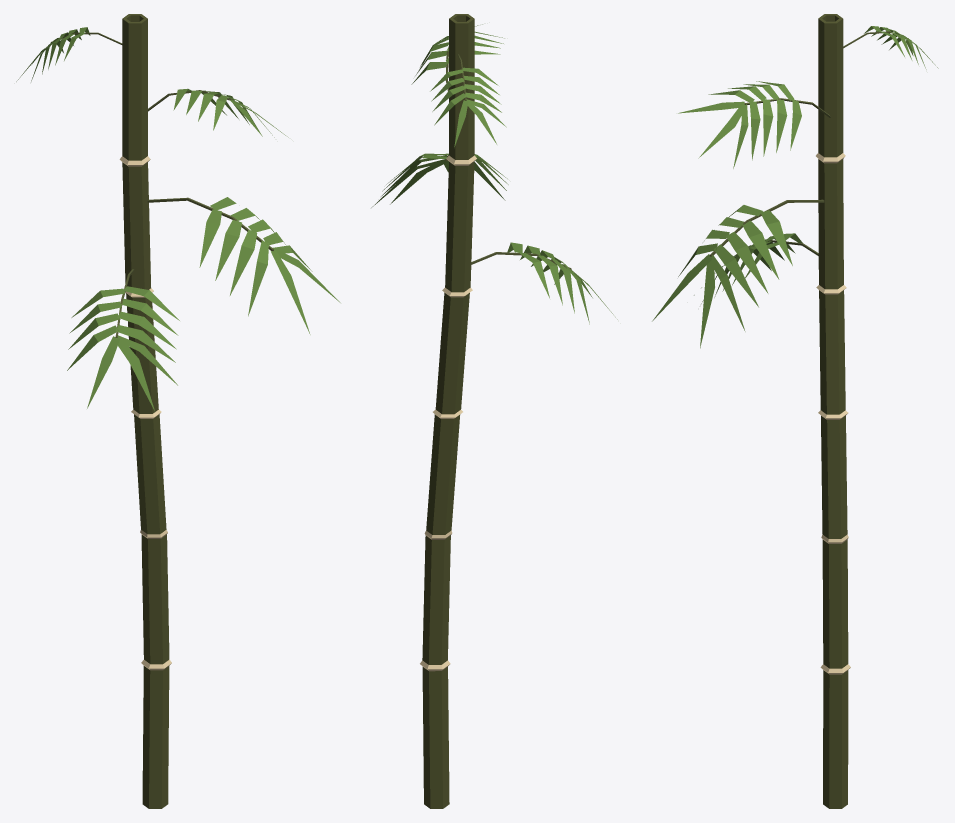
The model's file is Bamboo_01.glb.
3 views of the same model, side by side, from view 1: azimuth 30°, elevation 25°; view 2: azimuth 150°, elevation 25°; view 3: azimuth 270°, elevation 25° (orthographic). The views are drawn at different scales.
Visible parts, largest first — view 1: Bamboo_01; view 2: Bamboo_01; view 3: Bamboo_01.
Part boxes in pixels (x1,y1,x2,y2): Bamboo_01: [16, 14, 340, 808]; Bamboo_01: [371, 14, 617, 808]; Bamboo_01: [652, 14, 938, 808].
Size of what is drawn, in the model's own units: 1.12 by 3.46 by 1.17.
Materials: 1 (1 with a texture image).
